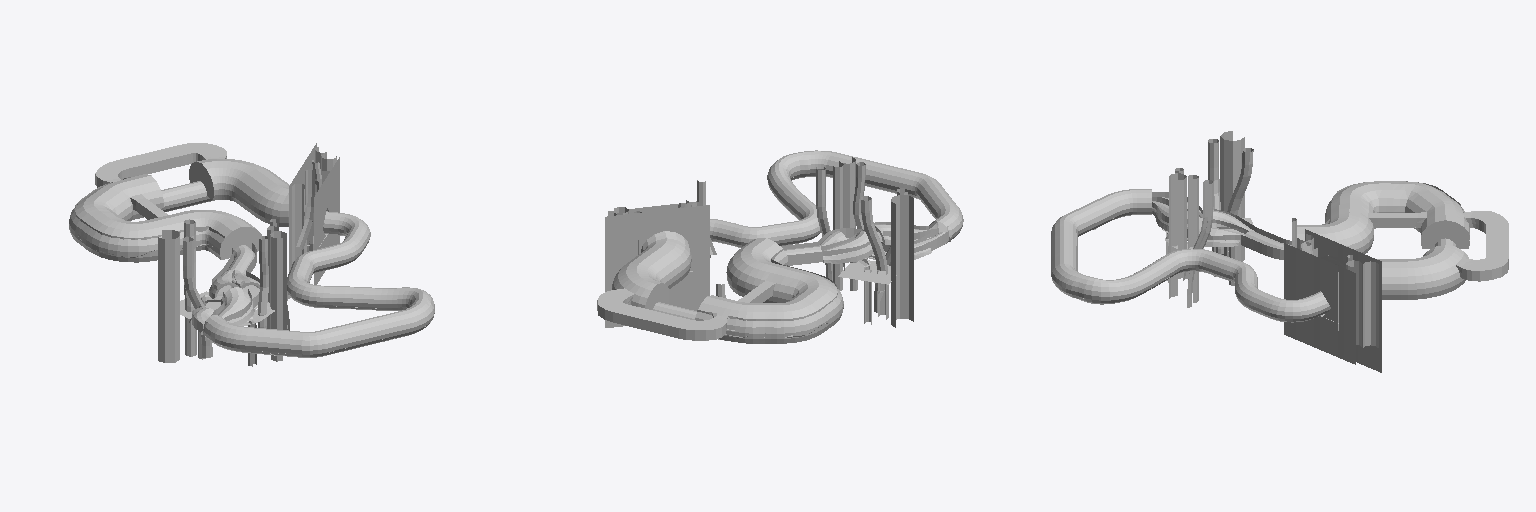
Rendered from sewer.Med.obj.
3 renders of one model, left to right at view 1: azimuth 30°, elevation 25°; view 2: azimuth 150°, elevation 25°; view 3: azimuth 270°, elevation 25°, orthographic.
Bounding box in the file's own units: 18713 × 9667 × 30476.